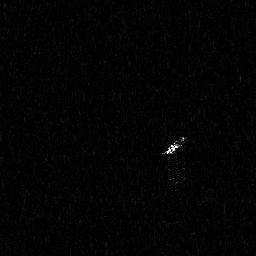ship: (160, 133, 189, 158)
